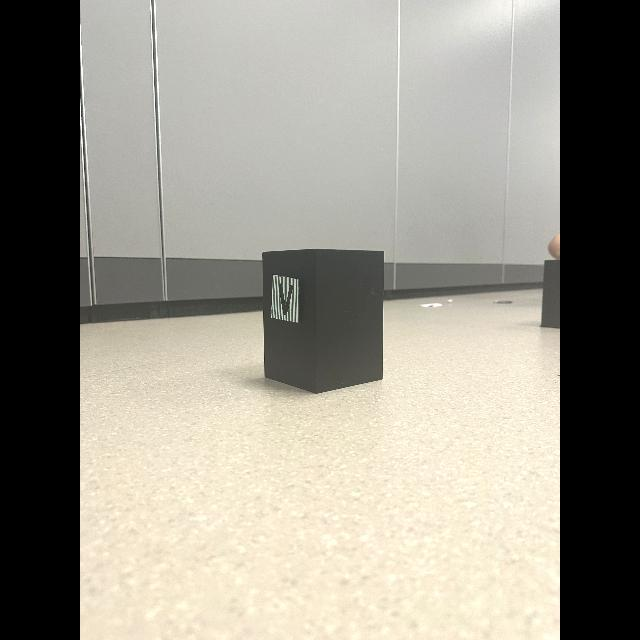V: (278, 283, 293, 316)
